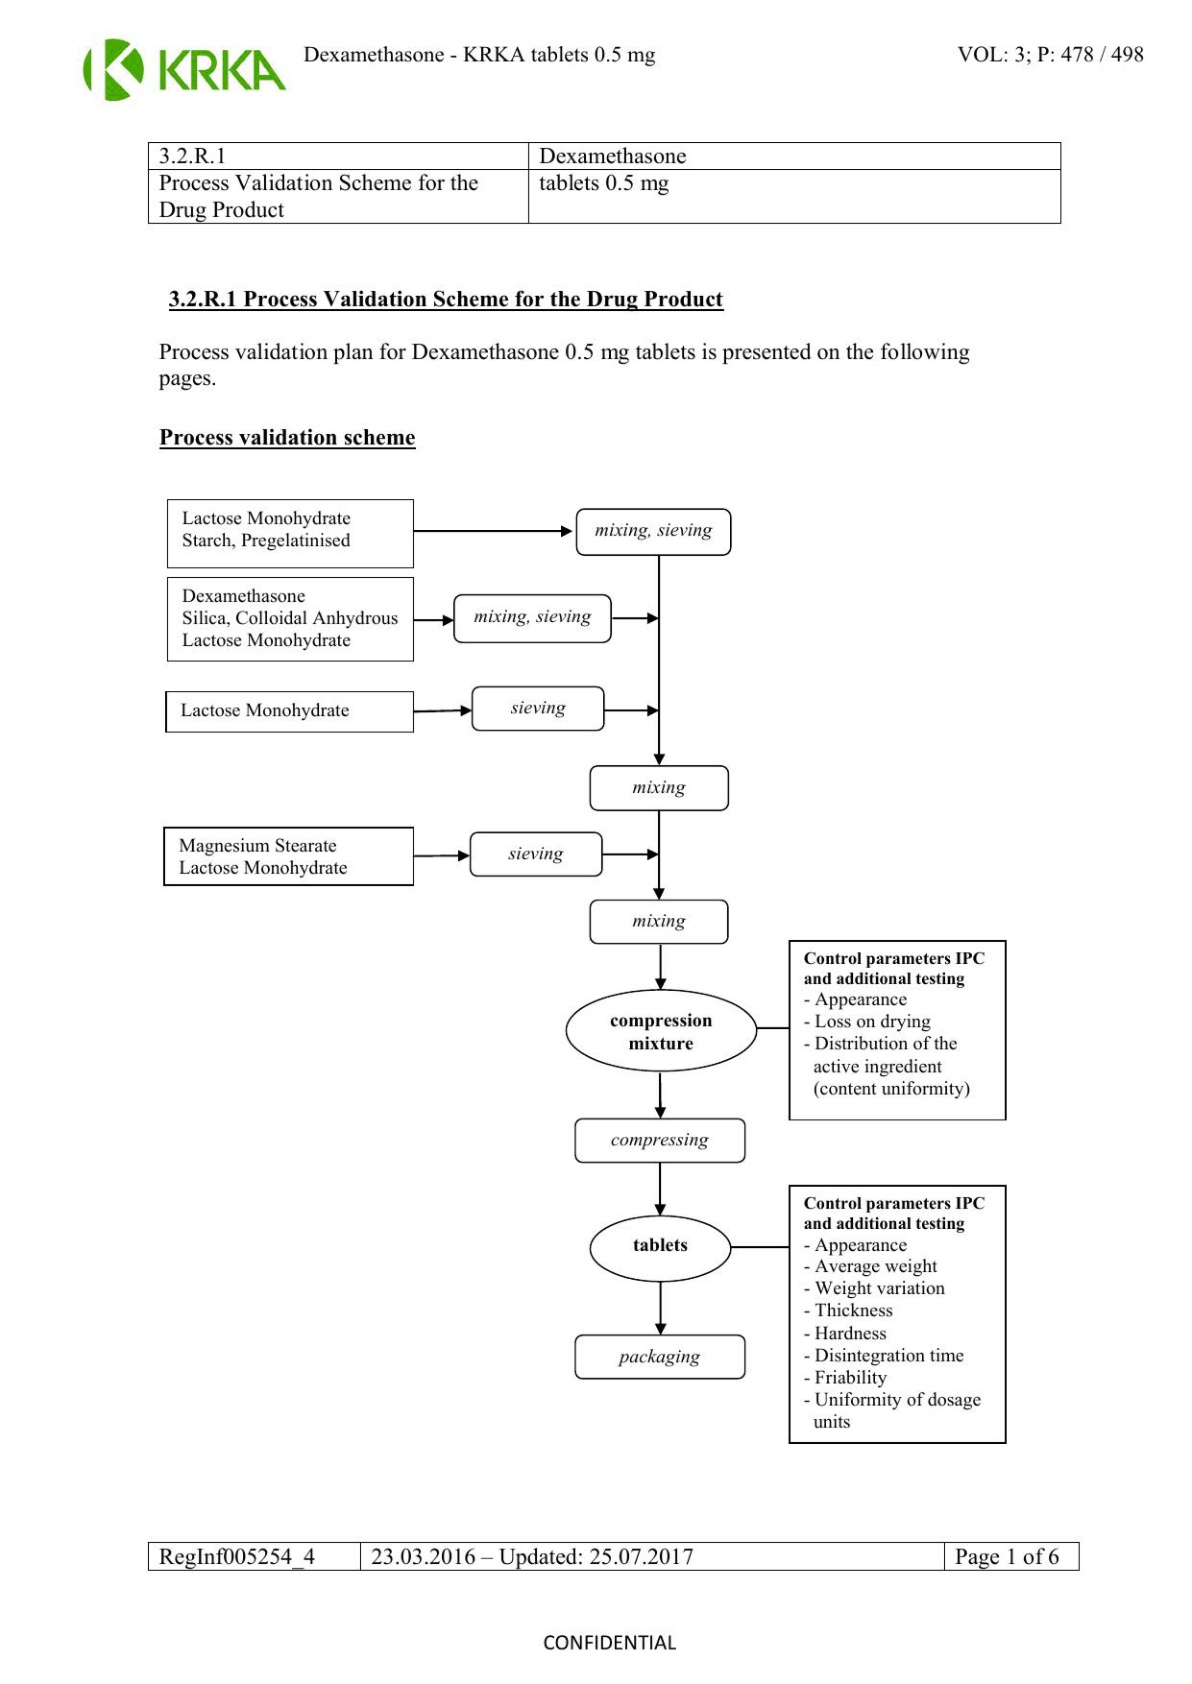full_lined: (147, 142, 1062, 224), (147, 1541, 1081, 1573)
